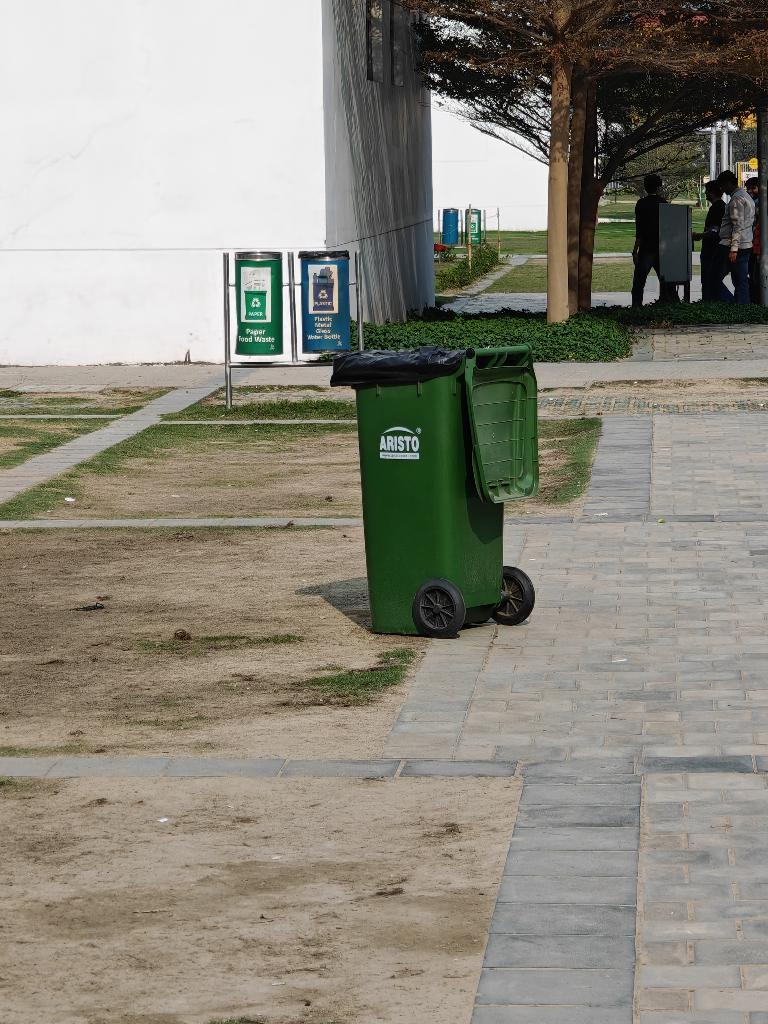dustbin: (328, 340, 552, 656), (210, 234, 367, 405)
